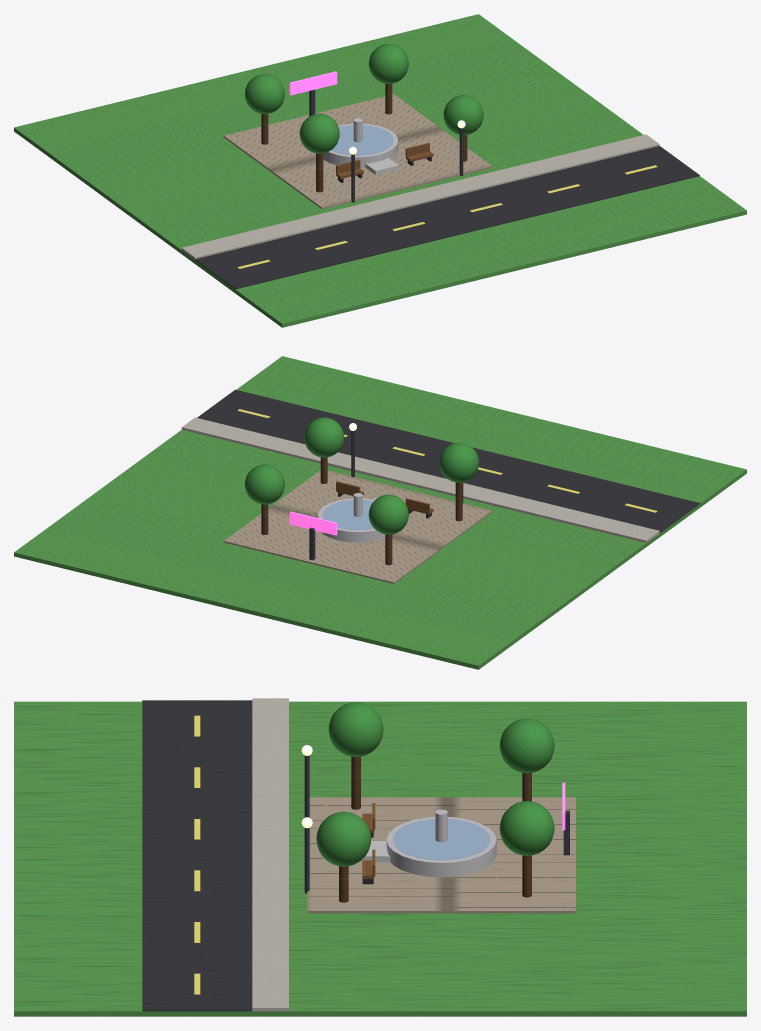
File: praca-teste-rbxlx.glb
3 views of the same model, one above another, from view 1: azimuth 30°, elevation 25°; view 2: azimuth 150°, elevation 25°; view 3: azimuth 270°, elevation 25° (orthographic). The views are drawn at different scales.
Visible parts, largest first — view 1: Grass (×2), Asphalt, Cobblestone, Concrete (×2), Glass, Wood, WoodPlanks, Neon, Metal, SmoothPlastic; view 2: Grass (×2), Asphalt, Cobblestone, Concrete (×2), Glass, Wood, Neon, WoodPlanks; view 3: Grass (×2), Asphalt, Cobblestone, Concrete (×2), Glass, Wood, Metal, SmoothPlastic, WoodPlanks.
Part boxes in pixels (left/top/right/bottom): Grass (×2): left=14, top=14, right=746, bottom=327; Asphalt: left=195, top=146, right=699, bottom=289; Cobblestone: left=223, top=94, right=492, bottom=209; Concrete (×2): left=181, top=118, right=659, bottom=259; Glass: left=332, top=125, right=393, bottom=155; Wood: left=261, top=83, right=467, bottom=192; WoodPlanks: left=336, top=143, right=433, bottom=178; Neon: left=289, top=71, right=337, bottom=95; Metal: left=309, top=89, right=463, bottom=202; SmoothPlastic: left=237, top=165, right=657, bottom=268; Grass (×2): left=14, top=356, right=746, bottom=669; Asphalt: left=197, top=389, right=699, bottom=532; Cobblestone: left=223, top=470, right=492, bottom=583; Concrete (×2): left=181, top=417, right=659, bottom=542; Glass: left=322, top=500, right=373, bottom=529; Wood: left=261, top=457, right=462, bottom=565; Neon: left=289, top=511, right=337, bottom=535; WoodPlanks: left=336, top=481, right=433, bottom=514; Grass (×2): left=14, top=701, right=746, bottom=1016; Asphalt: left=142, top=700, right=252, bottom=1011; Cobblestone: left=307, top=797, right=575, bottom=913; Concrete (×2): left=252, top=698, right=496, bottom=1011; Glass: left=393, top=819, right=489, bottom=859; Wood: left=339, top=756, right=531, bottom=902; Metal: left=304, top=755, right=569, bottom=893; SmoothPlastic: left=194, top=715, right=200, bottom=994; WoodPlanks: left=362, top=803, right=375, bottom=878.
Bounding box in the file's own units: 33.6 × 5.6 × 33.6.
Materials: 15 (8 with a texture image).
